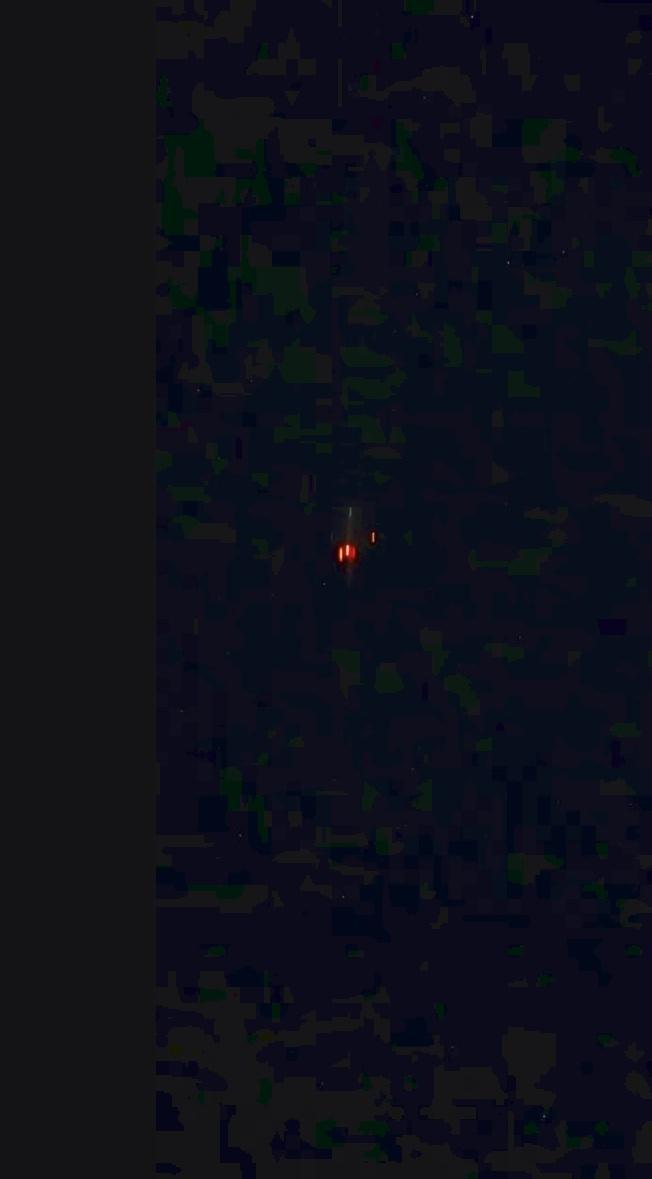Plane: (312, 491, 391, 604)
